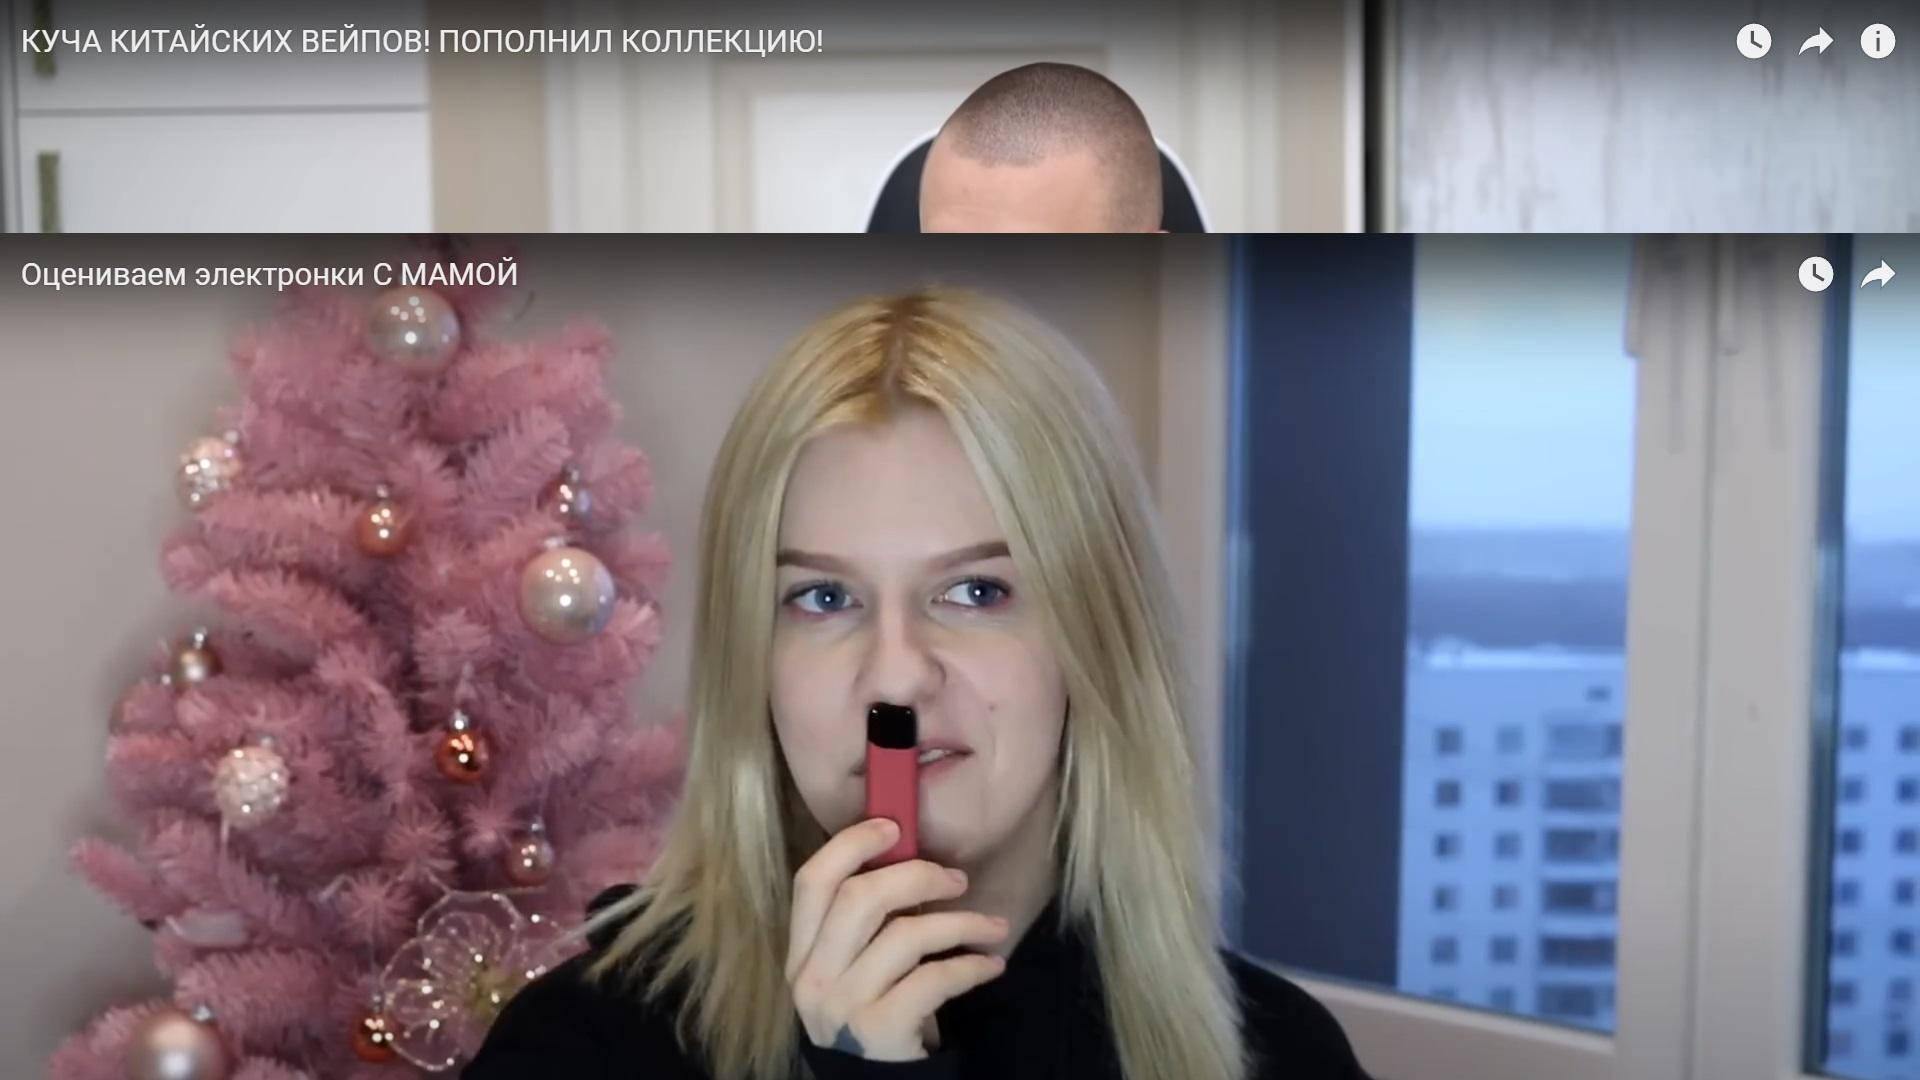Vape: (865, 702, 918, 862)
